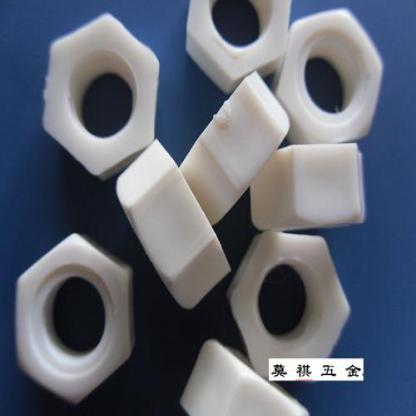FOD: (15, 230, 136, 403), (39, 12, 162, 181), (116, 138, 231, 317), (230, 236, 348, 378), (278, 7, 388, 151), (247, 142, 368, 234), (184, 0, 295, 87)
